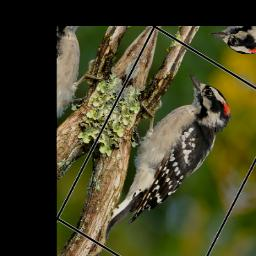Woodpecker: (82, 58, 241, 256)
